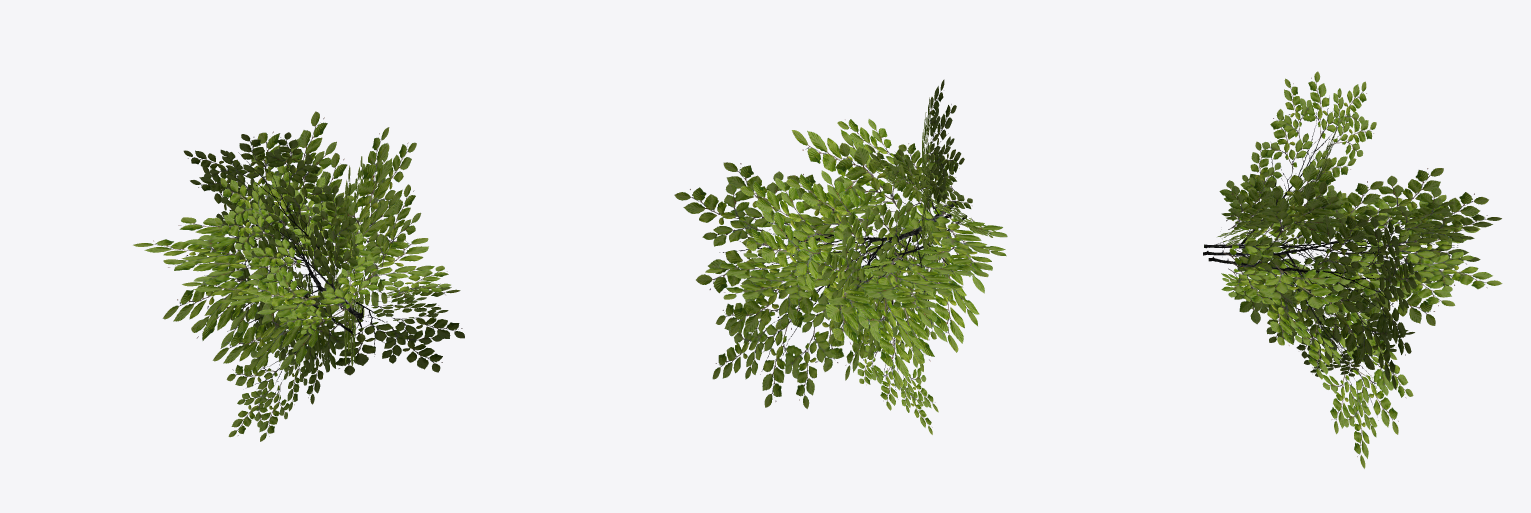
Rendered from Bush_03.FBX.
The picture shows the model from 3 angles, left to right: view 1: azimuth 30°, elevation 25°; view 2: azimuth 150°, elevation 25°; view 3: azimuth 270°, elevation 25°; orthographic projection. The views are drawn at different scales.
Parts seen in each view (by area): view 1: Bush_03; view 2: Bush_03; view 3: Bush_03.
Part boxes in pixels (x1=…): Bush_03: x1=133, y1=111, x2=464, y2=441; Bush_03: x1=674, y1=79, x2=1007, y2=434; Bush_03: x1=1203, y1=71, x2=1502, y2=468.
Bounding box in the file's own units: 49.99 × 37.79 × 48.25.
